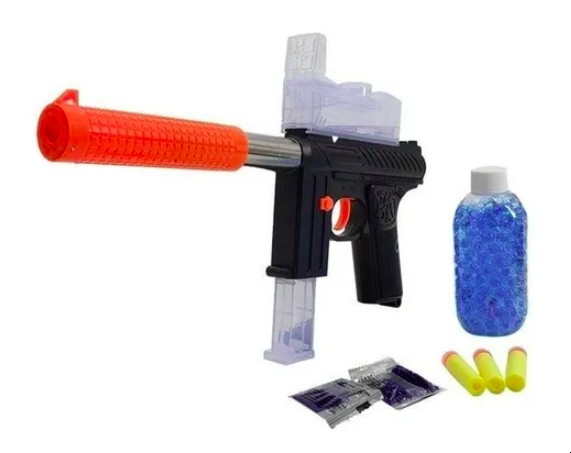Arma Falsa: (34, 28, 429, 365)
